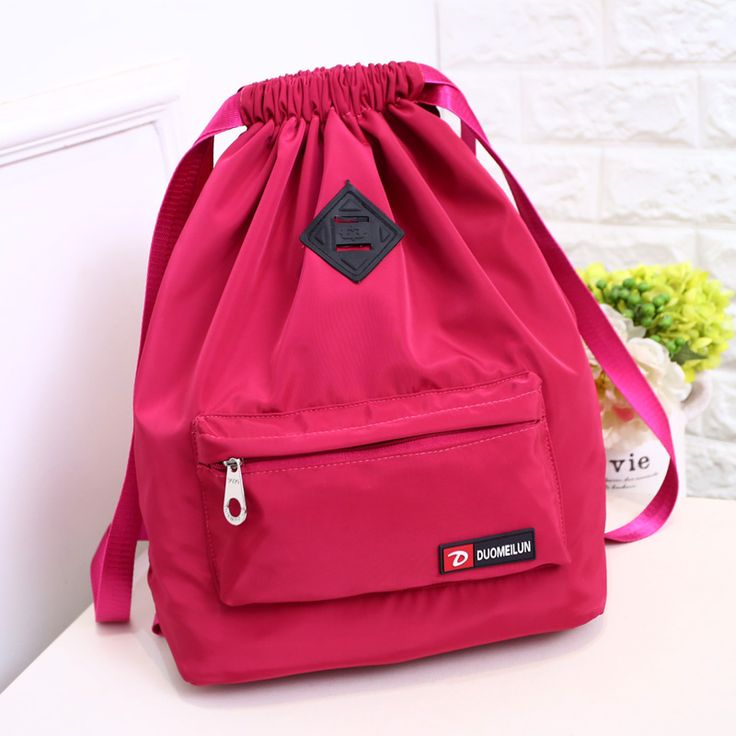nylon: (142, 61, 608, 684)
